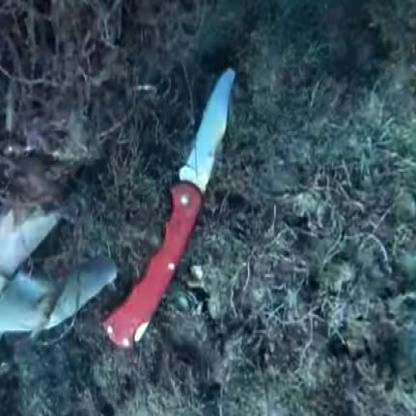misc: (127, 38, 238, 345)
